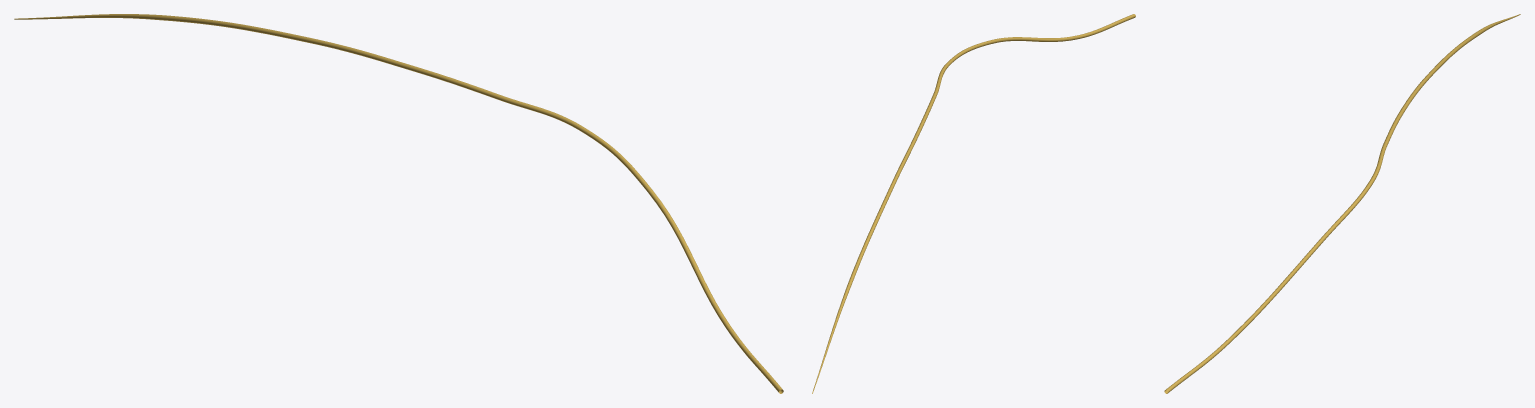
3 views of the same model, side by side, from view 1: azimuth 30°, elevation 25°; view 2: azimuth 150°, elevation 25°; view 3: azimuth 330°, elevation 25° (orthographic). The views are drawn at different scales.
Visible parts, largest first — view 1: 右侧前臂内侧皮神经后支; view 2: 右侧前臂内侧皮神经后支; view 3: 右侧前臂内侧皮神经后支.
Part boxes in pixels (x1=…): 右侧前臂内侧皮神经后支: x1=14, y1=14, x2=783, y2=393; 右侧前臂内侧皮神经后支: x1=812, y1=14, x2=1135, y2=393; 右侧前臂内侧皮神经后支: x1=1164, y1=14, x2=1520, y2=393.
Bounding box in the file's own units: 0.0656 × 0.0377 × 0.3342.
